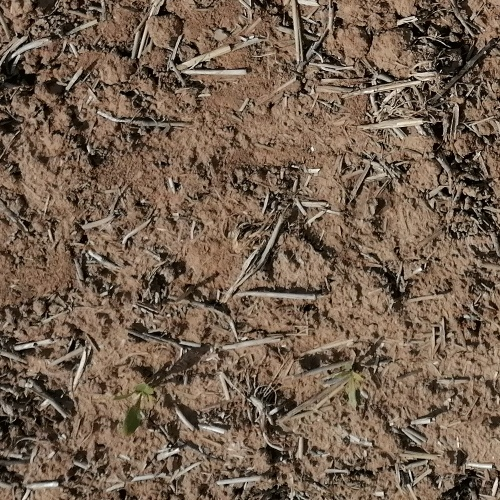beet: (121, 384, 151, 434)
